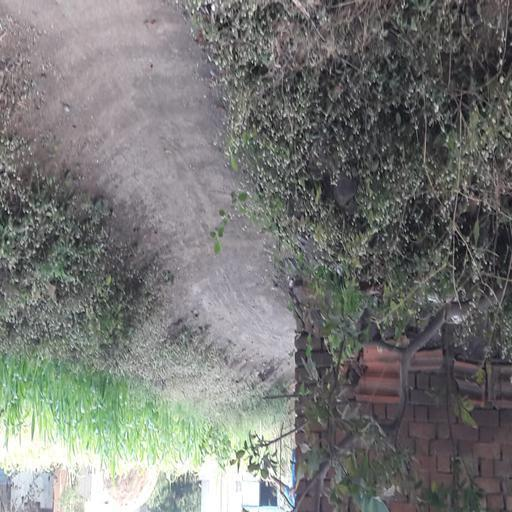vehicle_track: (0, 0, 292, 378)
